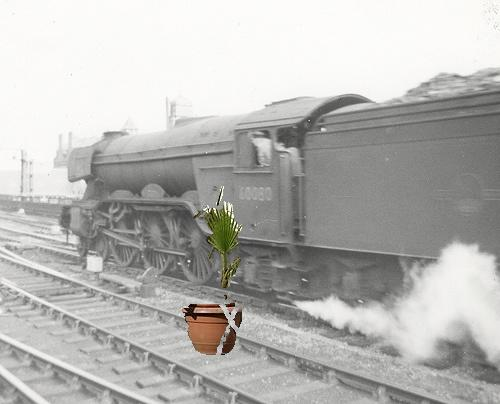tampered: (182, 186, 242, 355)
